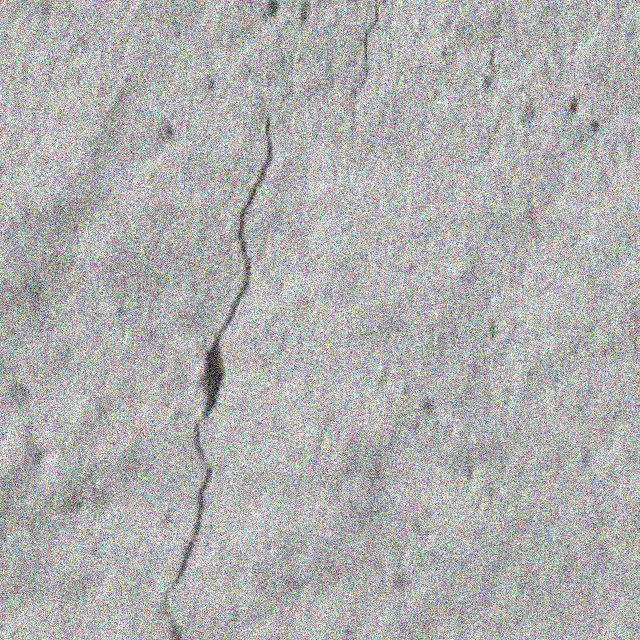SurfaceCrack: (118, 2, 326, 640)
